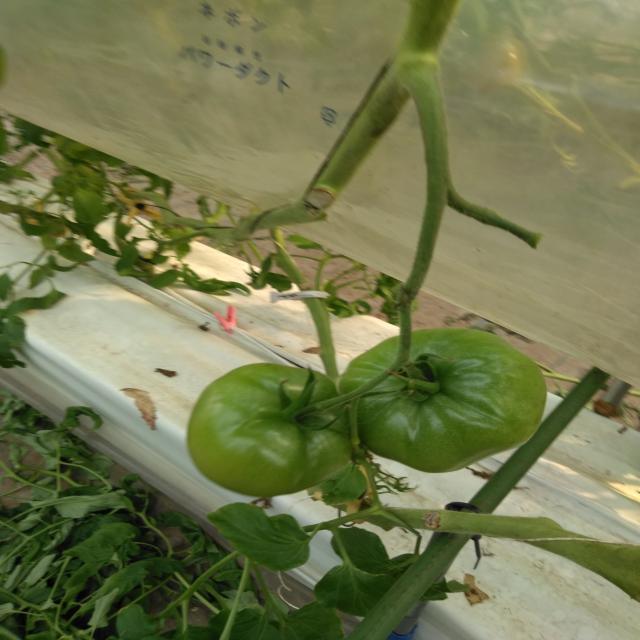yesil: (176, 337, 584, 532)
